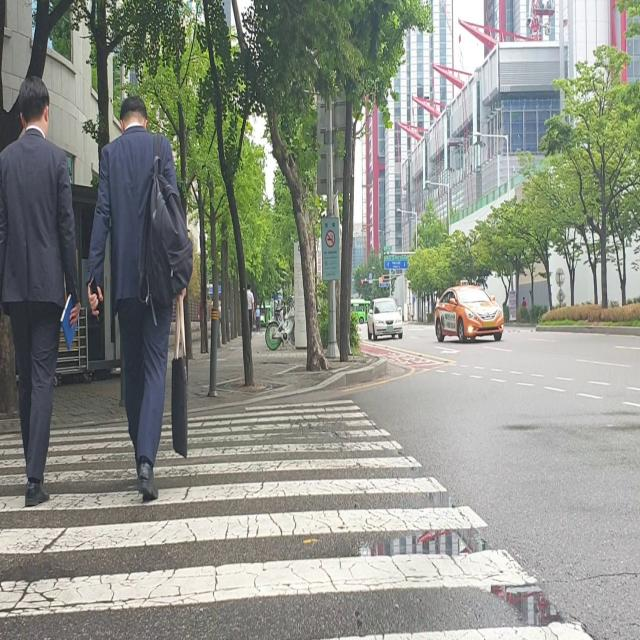횡단보도: (0, 390, 598, 640)
